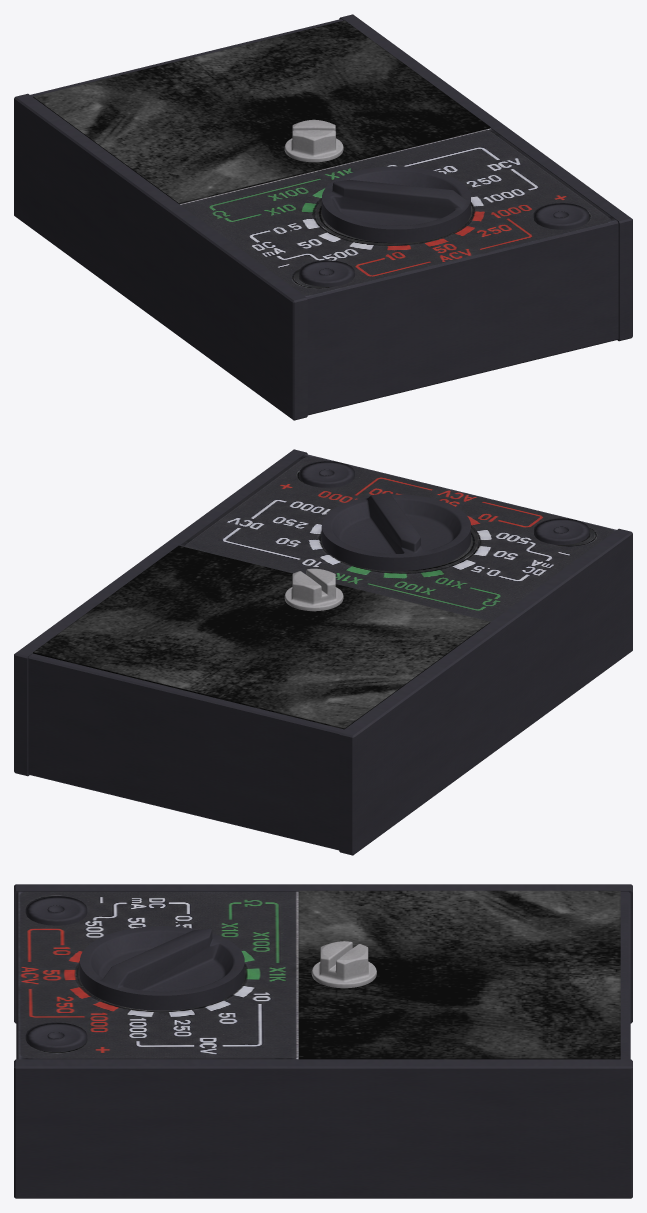
The model's file is voltmeter.fbx.
3 renders of one model, top to bottom at view 1: azimuth 30°, elevation 25°; view 2: azimuth 150°, elevation 25°; view 3: azimuth 270°, elevation 25°, orthographic. The views are drawn at different scales.
Visible parts, largest first — view 1: body_lambert1_0, screen_glass_0, dial_lambert1_0; view 2: body_lambert1_0, screen_glass_0, dial_lambert1_0; view 3: body_lambert1_0, screen_glass_0, dial_lambert1_0.
Boxes of the visible parts, x1=… form: body_lambert1_0: x1=14, y1=14, x2=632, y2=420; screen_glass_0: x1=33, y1=20, x2=490, y2=204; dial_lambert1_0: x1=321, y1=166, x2=470, y2=242; body_lambert1_0: x1=14, y1=449, x2=632, y2=855; screen_glass_0: x1=33, y1=545, x2=490, y2=729; dial_lambert1_0: x1=321, y1=493, x2=470, y2=571; body_lambert1_0: x1=14, y1=884, x2=632, y2=1198; screen_glass_0: x1=298, y1=890, x2=620, y2=1059; dial_lambert1_0: x1=79, y1=926, x2=244, y2=1010.
Size of the model in its own units: 37.72 by 15.09 by 53.78.
2 materials, 2 textured.
